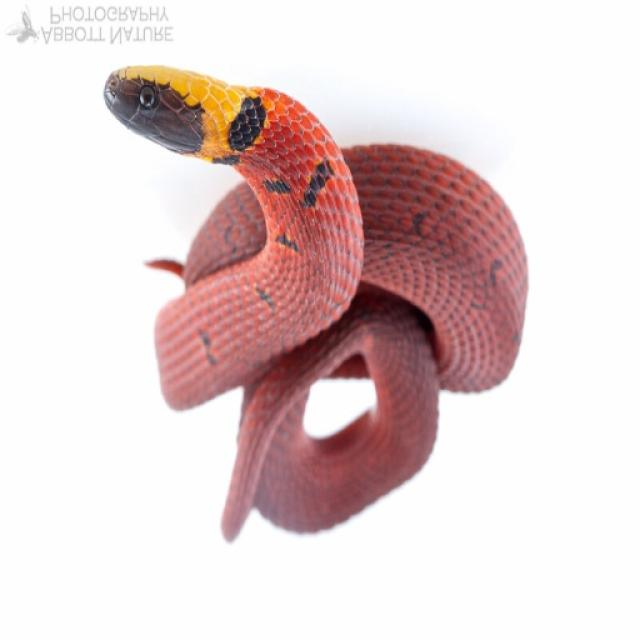snake: (107, 46, 541, 566)
